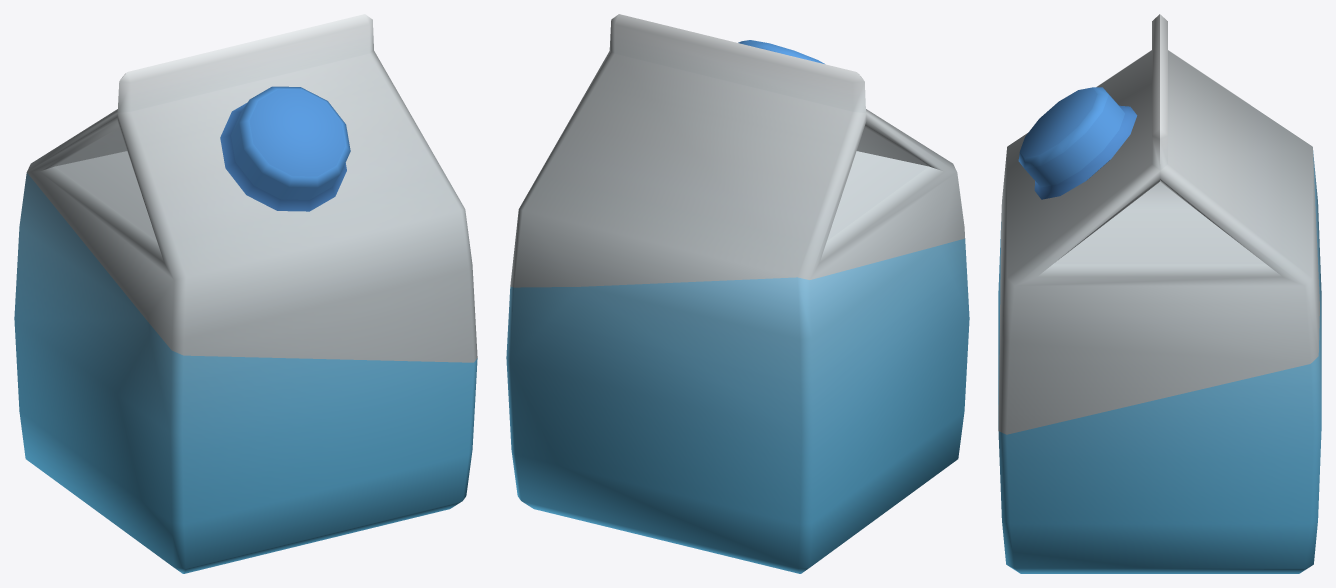
The model's file is kefir_002.fbx.
3 renders of one model, left to right at view 1: azimuth 30°, elevation 25°; view 2: azimuth 150°, elevation 25°; view 3: azimuth 270°, elevation 25°, orthographic.
Parts seen in each view (by area): view 1: kefir_002; view 2: kefir_002; view 3: kefir_002.
Boxes of the visible parts, left/top/right/bottom form: kefir_002: left=14, top=14, right=477, bottom=573; kefir_002: left=506, top=14, right=969, bottom=573; kefir_002: left=998, top=14, right=1321, bottom=573.
Size of the model in its own units: 7.57 by 7.02 by 10.52.
